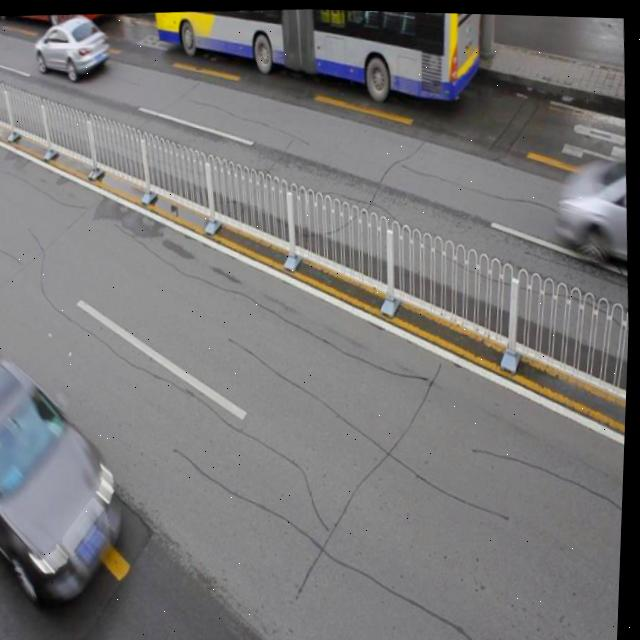car: (0, 341, 134, 606), (555, 141, 633, 267), (32, 11, 113, 82)
van: (153, 4, 486, 112), (0, 10, 119, 26)
